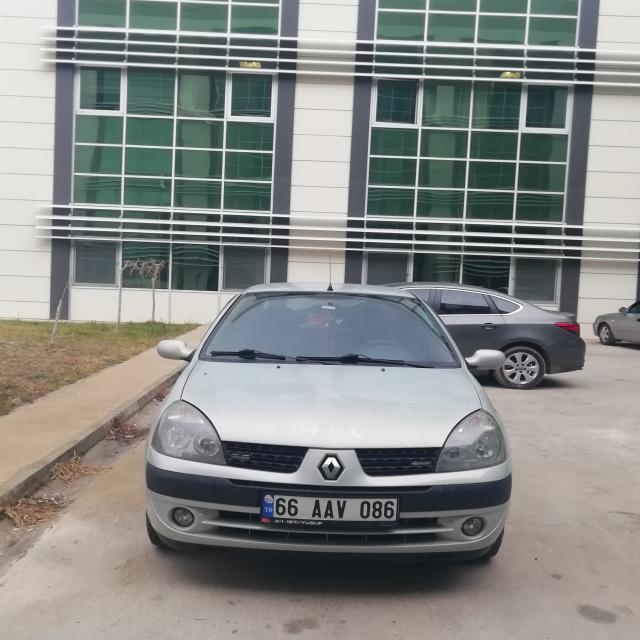license_plate: (261, 494, 399, 520)
